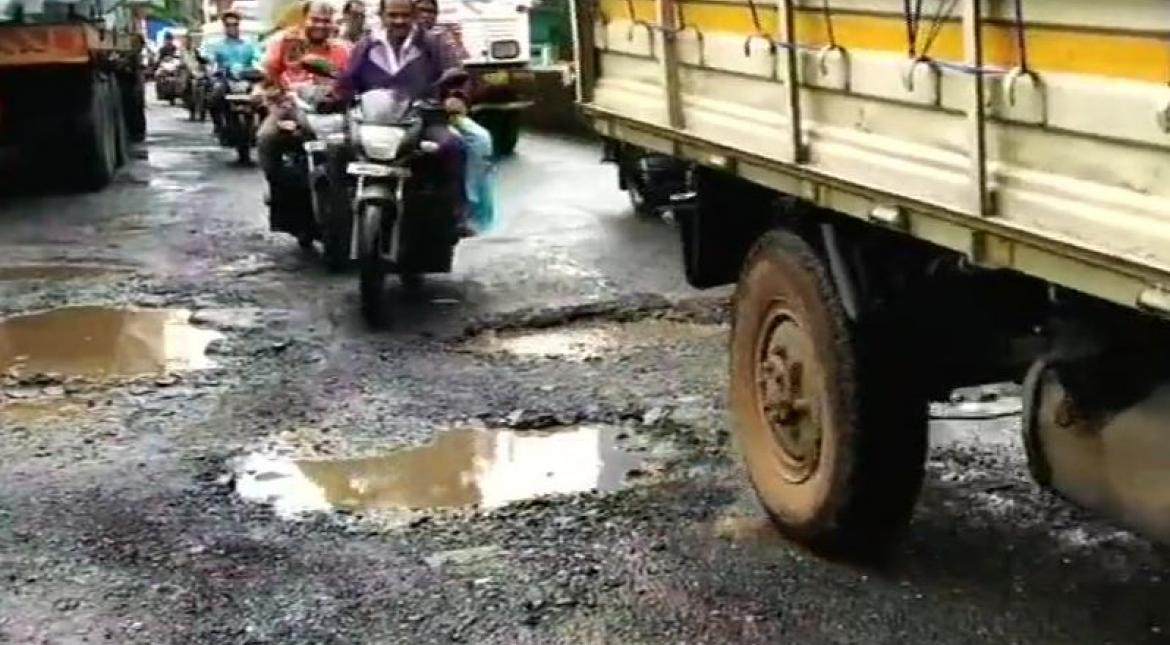pothole: (209, 380, 697, 552), (0, 259, 230, 415), (452, 273, 716, 358)
